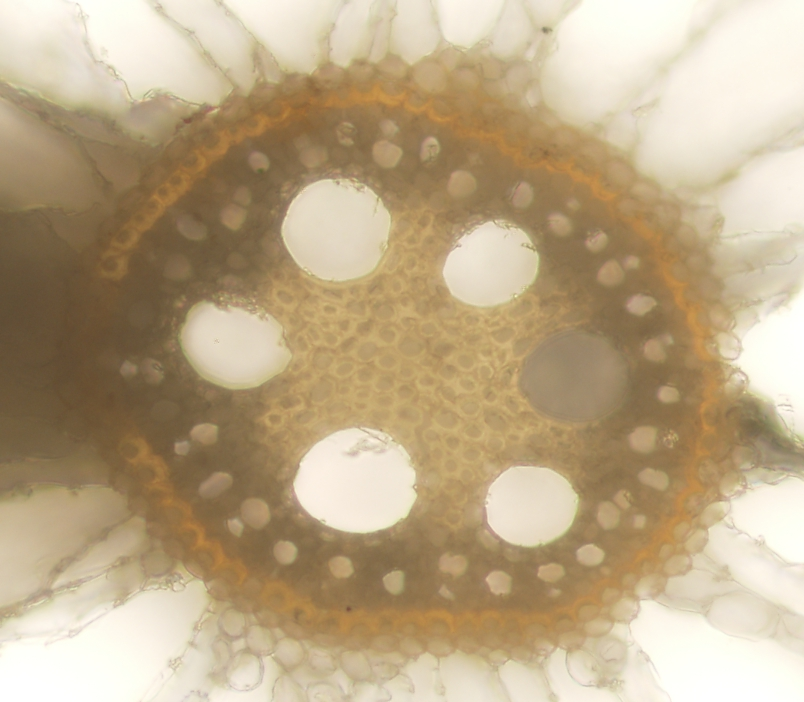lm: (294, 424, 418, 534), (279, 176, 392, 281), (518, 330, 633, 424), (179, 298, 293, 389), (443, 219, 539, 307), (483, 464, 579, 548)
